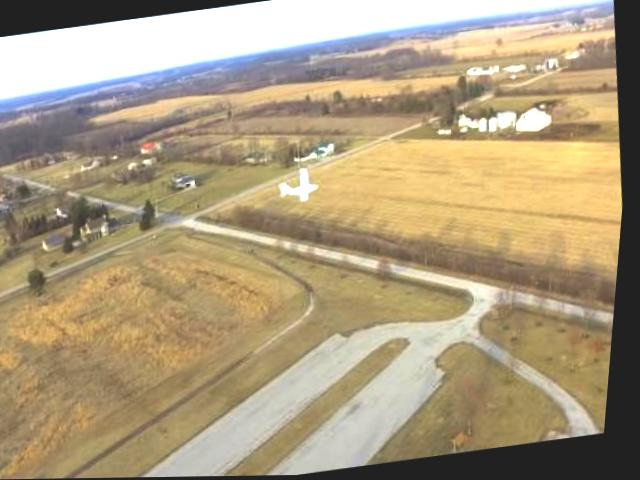uav: (267, 156, 335, 215)
